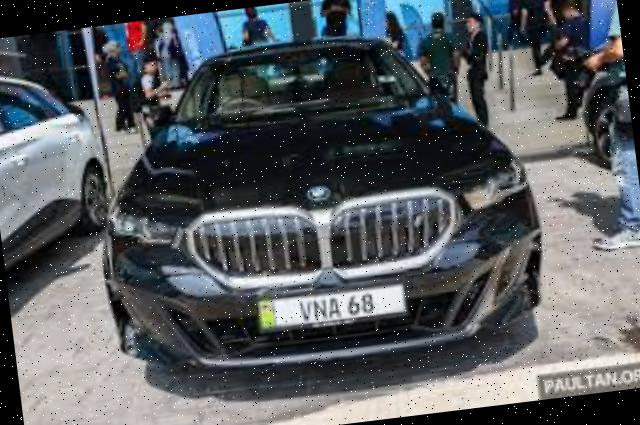License_Plate: (254, 280, 410, 335)
car: (77, 11, 556, 390)
